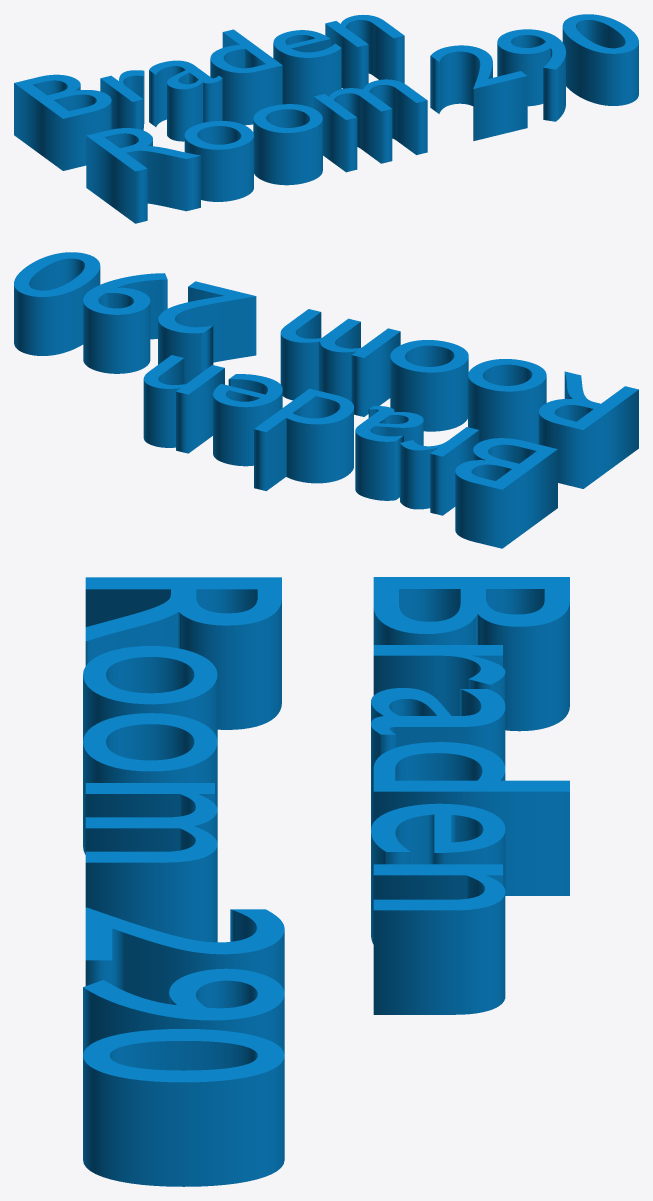
Rendered from braden-290.gltf.
The picture shows the model from 3 angles, top to bottom: view 1: azimuth 30°, elevation 25°; view 2: azimuth 150°, elevation 25°; view 3: azimuth 270°, elevation 25°; orthographic projection. The views are drawn at different scales.
Parts seen in each view (by area): view 1: Text; view 2: Text; view 3: Text.
Boxes of the visible parts, left/top/right/bottom form: Text: left=14, top=14, right=638, bottom=223; Text: left=14, top=252, right=638, bottom=548; Text: left=83, top=577, right=569, bottom=1186.
Bounding box in the file's own units: 4.15 × 0.4 × 1.69.
